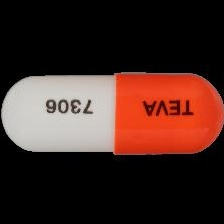0093-7306: (0, 0, 224, 224)
